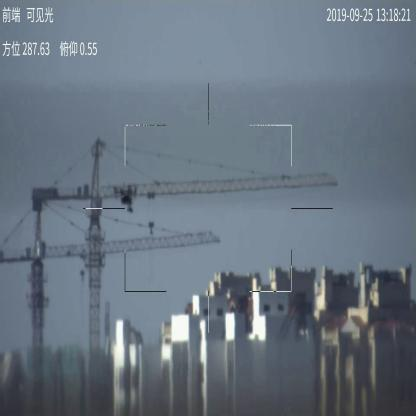uav: (112, 183, 138, 212)
